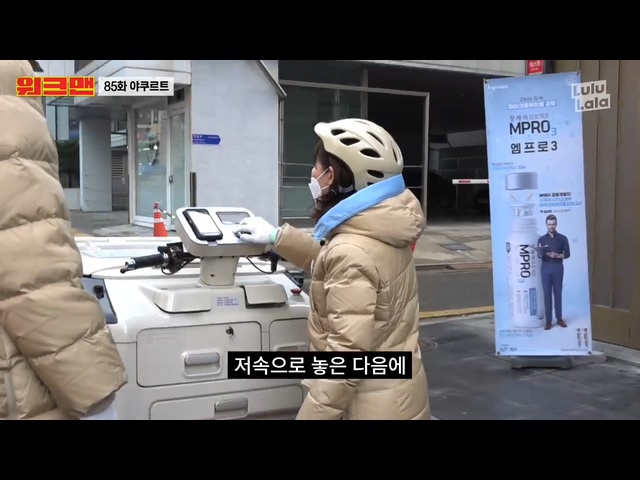Yakurut: (294, 117, 428, 353)
